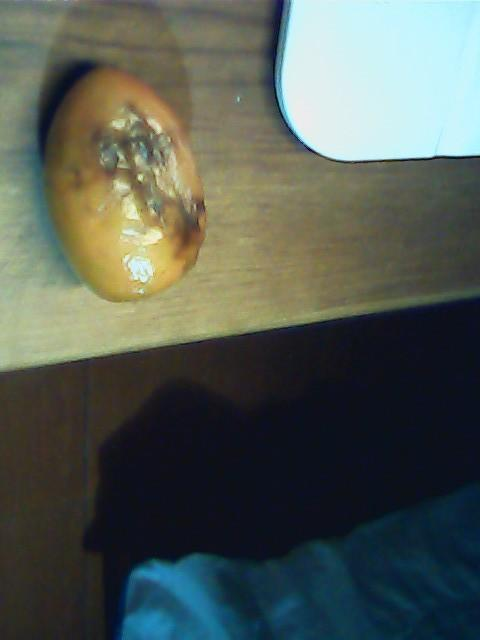defectuoso: (51, 63, 202, 302)
